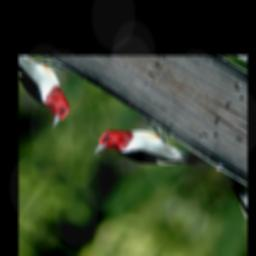Woodpecker: (90, 97, 219, 209)
